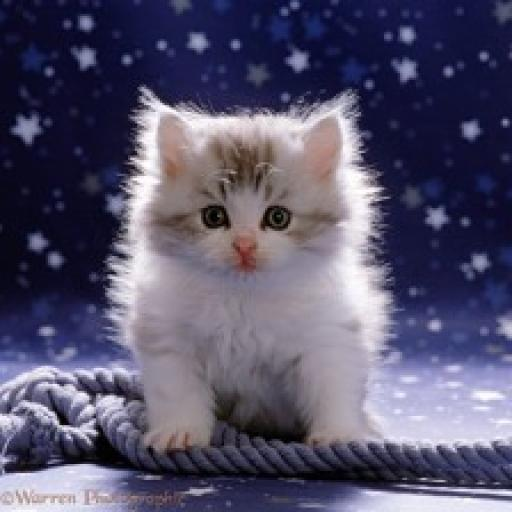cat: (98, 78, 411, 452)
